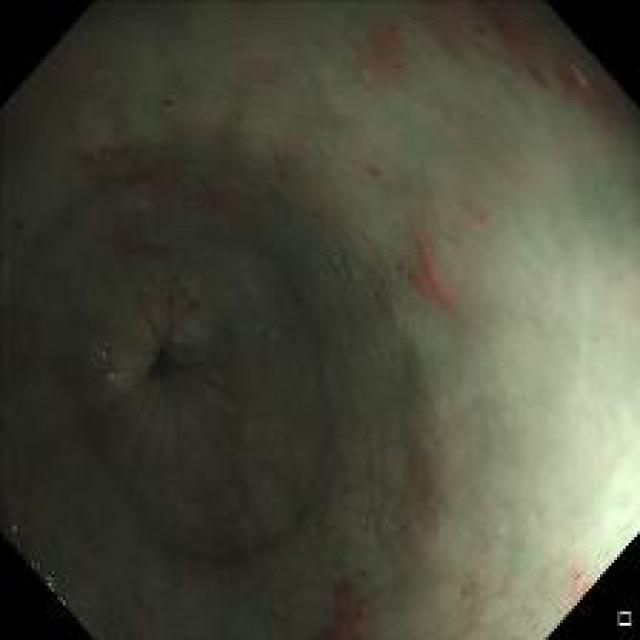color misalignment: (30, 562, 69, 611), (568, 61, 591, 90)
contrast: (35, 131, 398, 581)
saturation: (548, 366, 638, 560)
